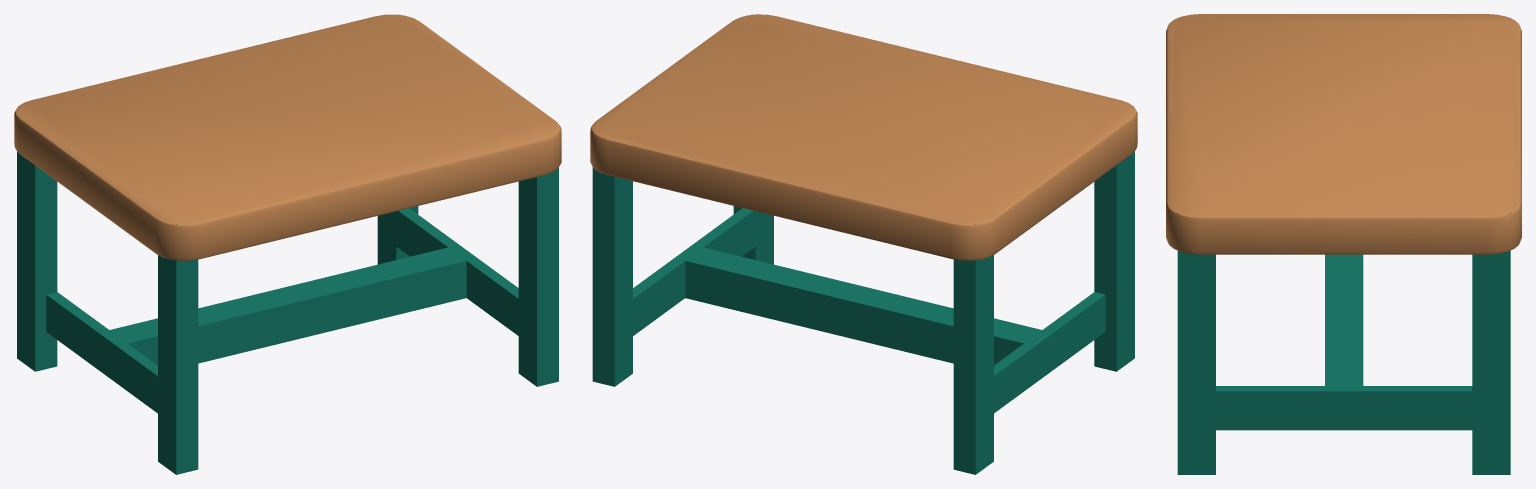
The model's file is table.glb.
3 views of the same model, side by side, from view 1: azimuth 30°, elevation 25°; view 2: azimuth 150°, elevation 25°; view 3: azimuth 270°, elevation 25° (orthographic). The views are drawn at different scales.
Parts seen in each view (by area): view 1: table; view 2: table; view 3: table.
Boxes of the visible parts, box(x1,y1,x2,y2) form: table: box(14, 14, 561, 474); table: box(590, 14, 1137, 474); table: box(1166, 14, 1521, 474).
Bounding box in the file's own units: 1.26 × 0.75 × 0.9212.
